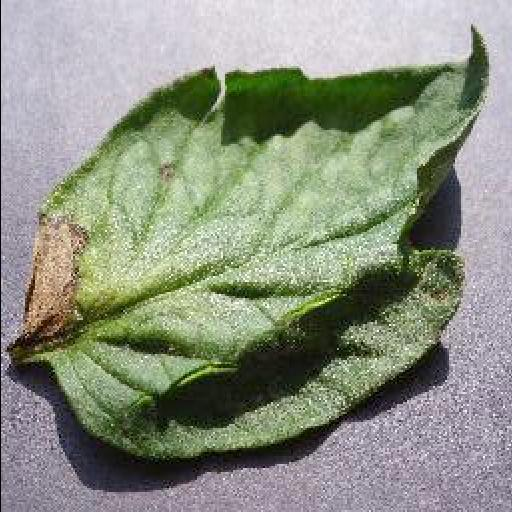disease_tomato: (7, 25, 493, 463)
